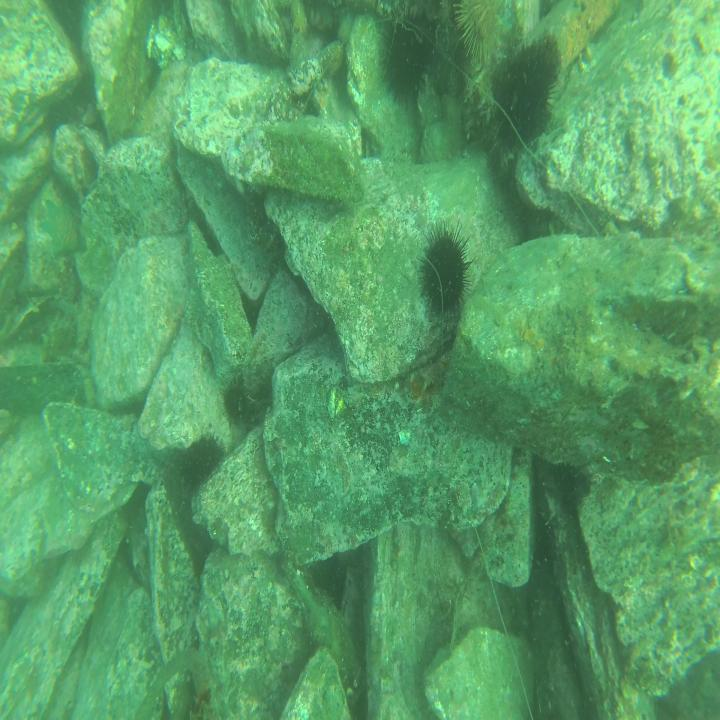echinus: (383, 15, 434, 104), (420, 230, 468, 317), (503, 55, 552, 135), (454, 0, 507, 64), (183, 433, 226, 487)
